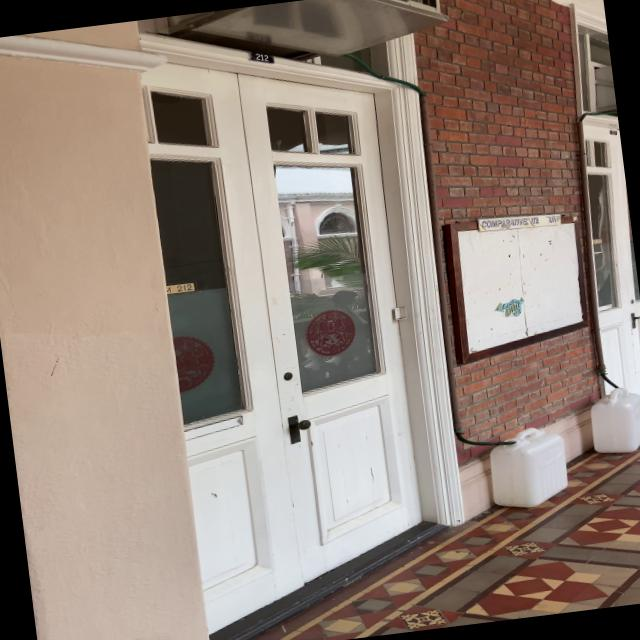room212: (243, 46, 278, 68)
